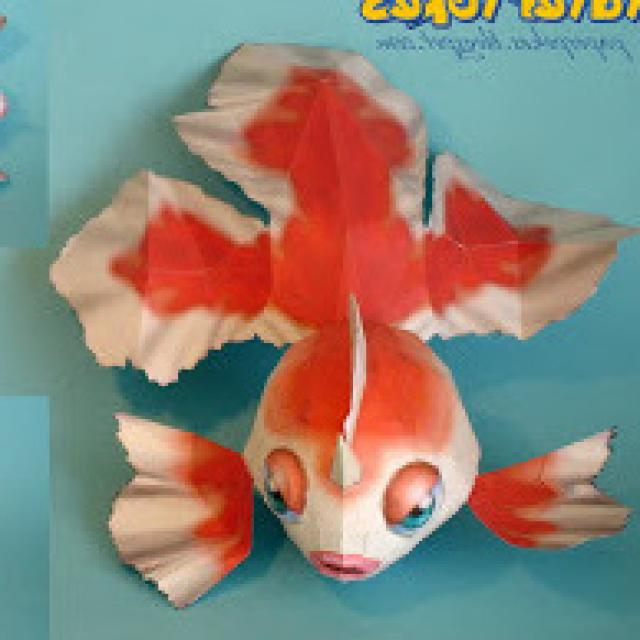Goldeen: (96, 155, 585, 592)
